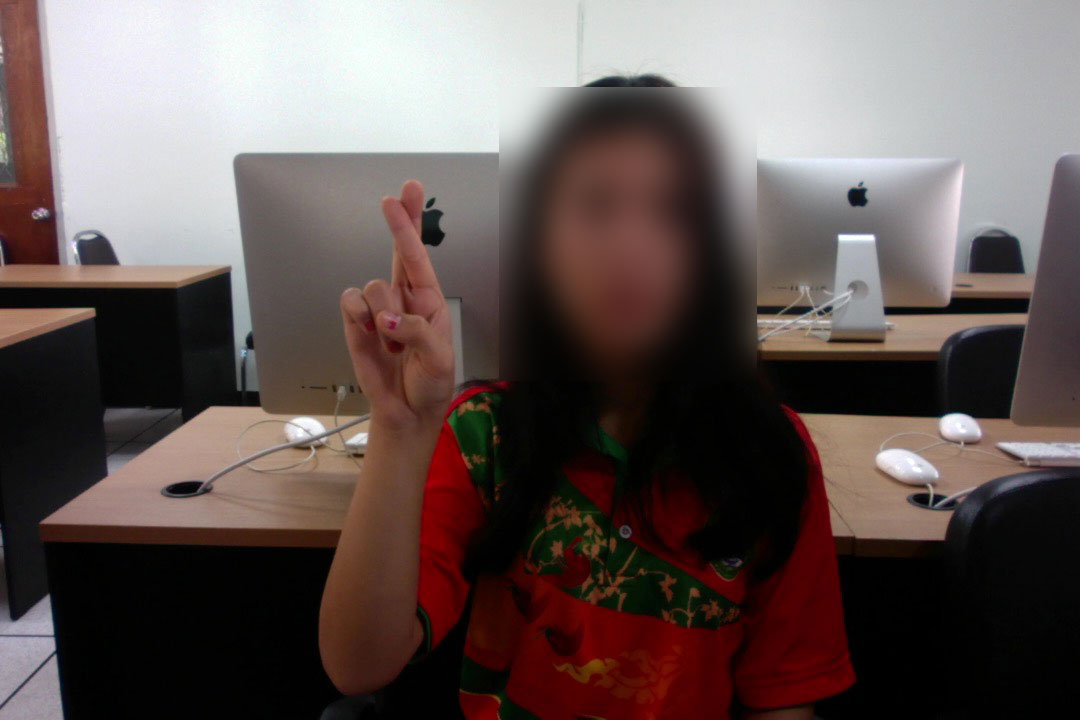rao: (339, 172, 470, 441)
